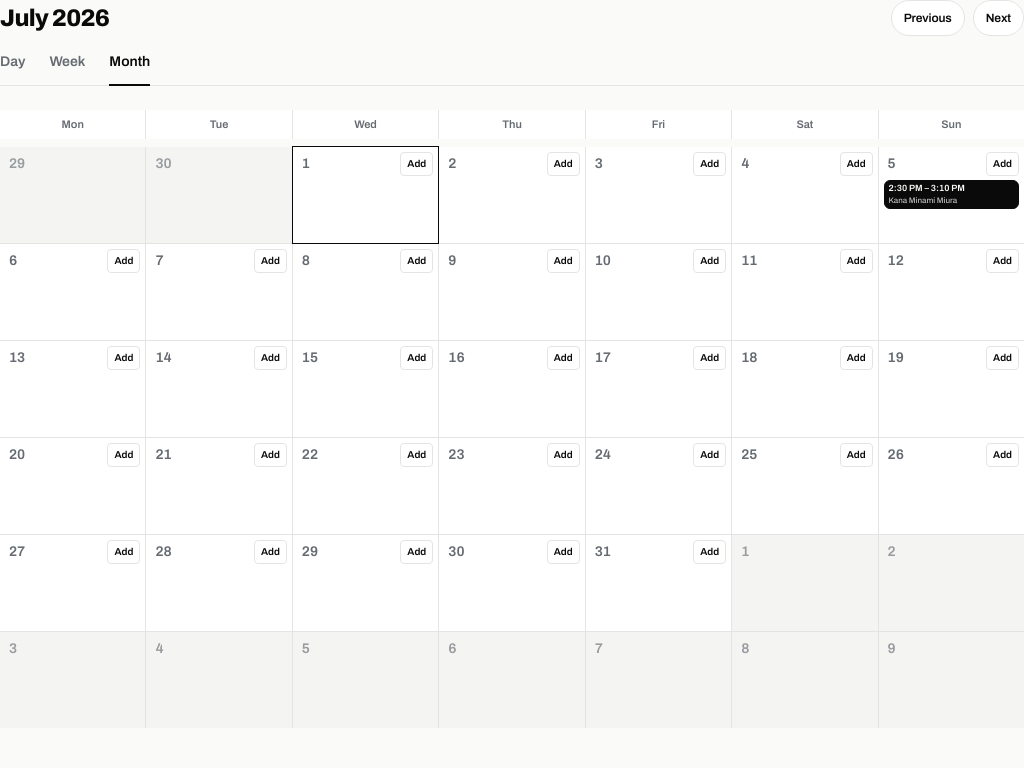
Test: TeacherAvailabilityCalendar — reservations on the calendar › a reservation can be opened
Click the button with test id "month-booking-chip" at (951, 194), box 884,180 -> 1019,209
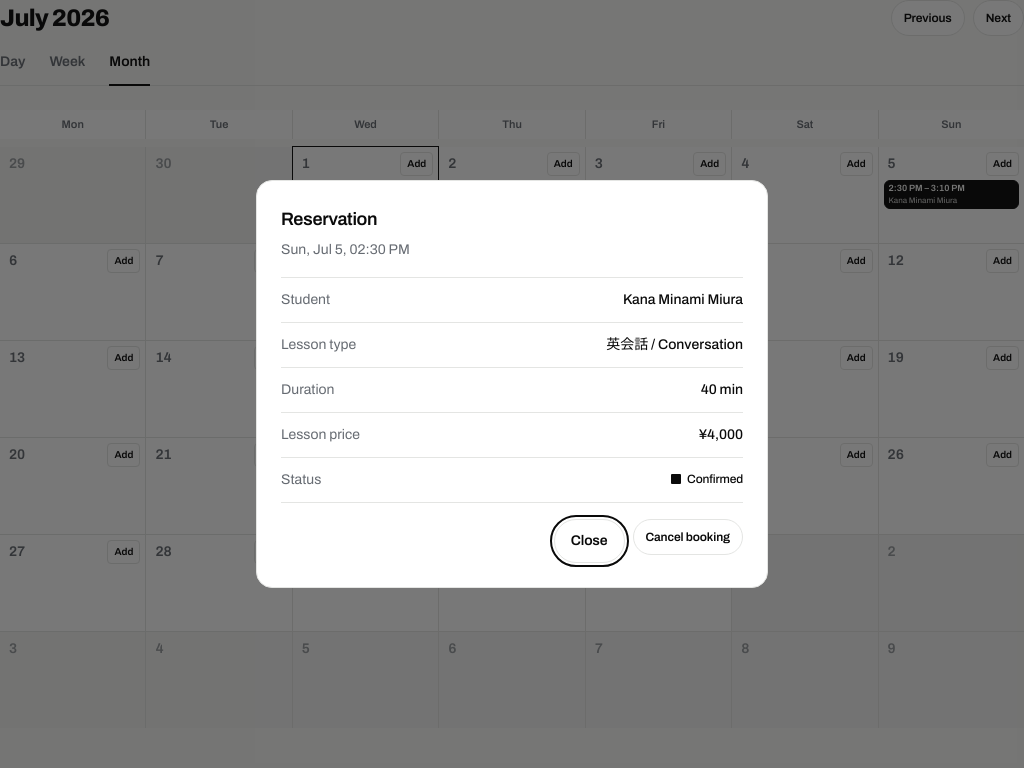
Expected: the heading "Reservation" is shown, 281,209 -> 377,229
